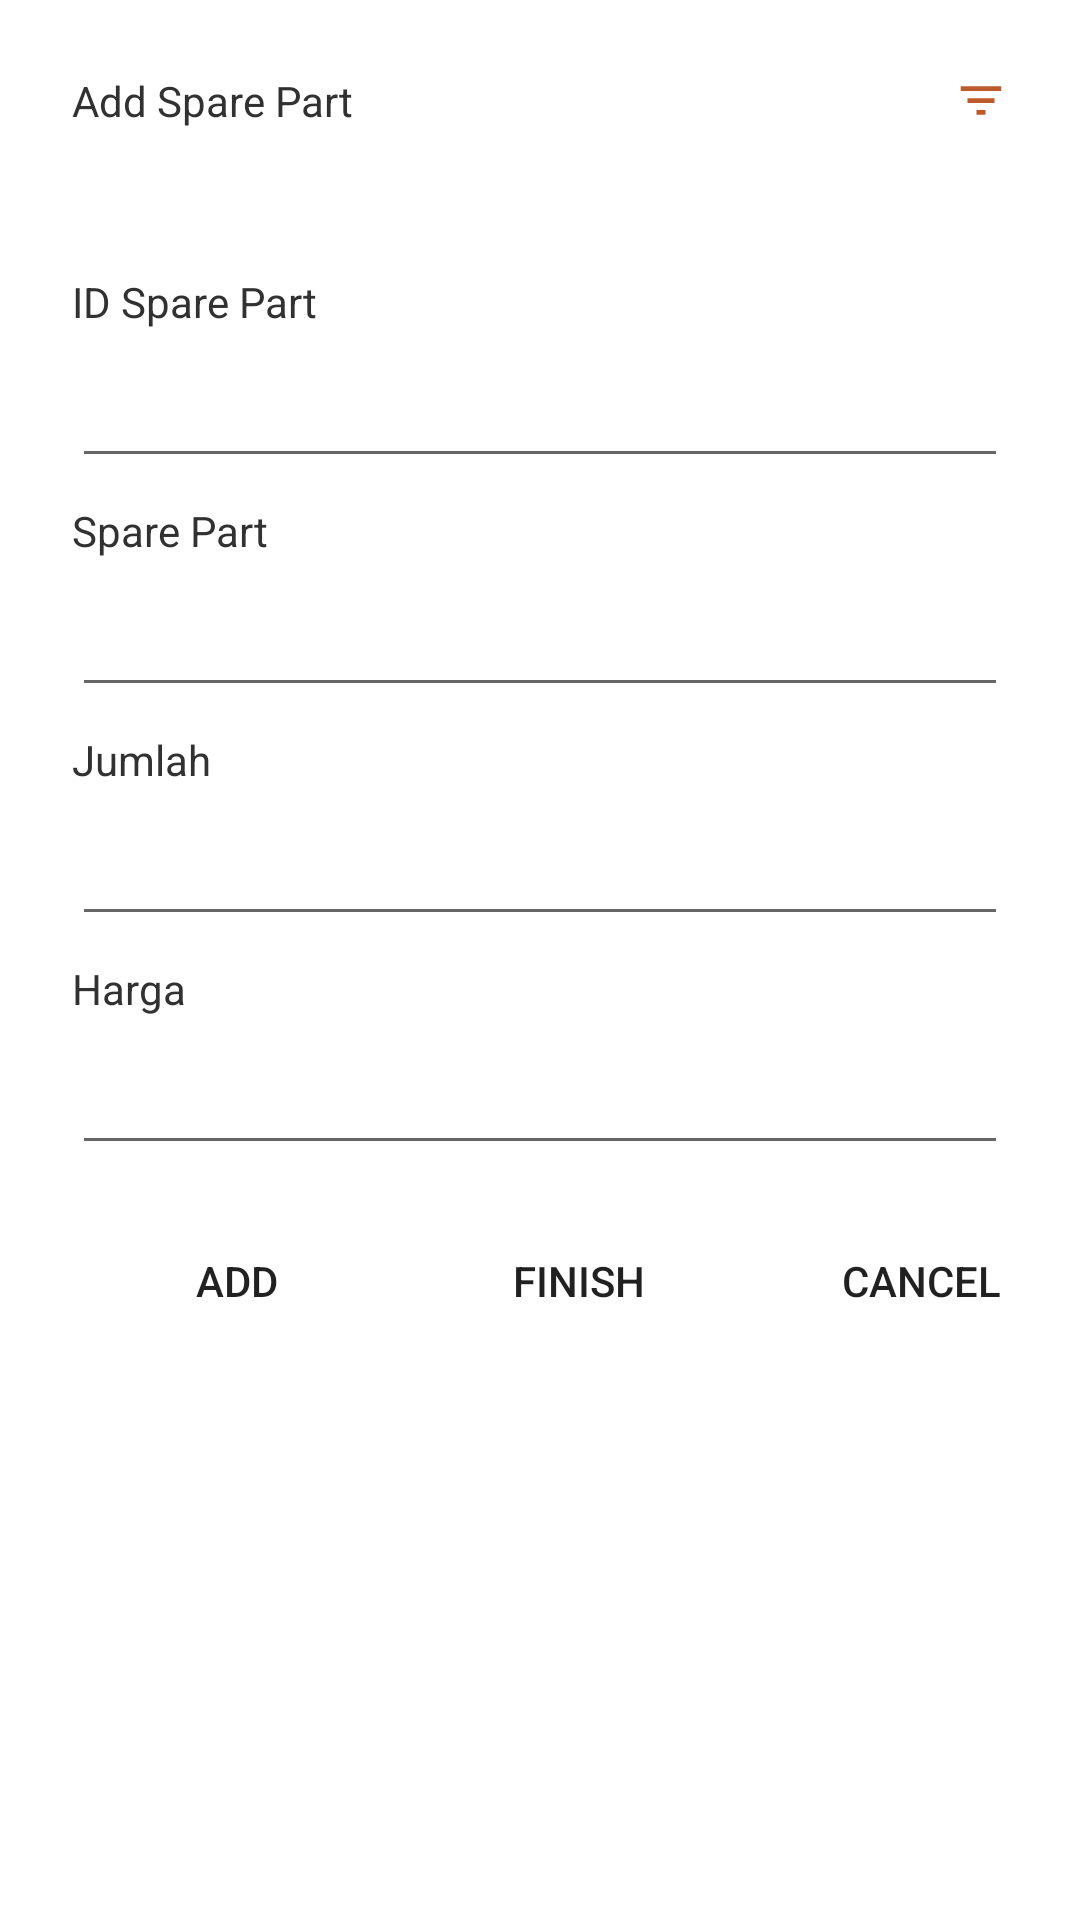

Icons on this 1080w x 1920h Android screen, each with its box as box(x1, y1, x2, y2):
filter list: box(960, 86, 1002, 115)
